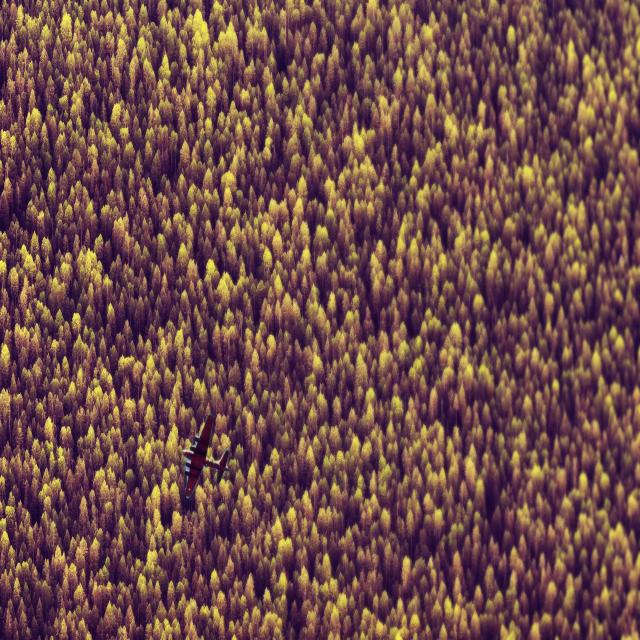airplane: (182, 414, 230, 501)
